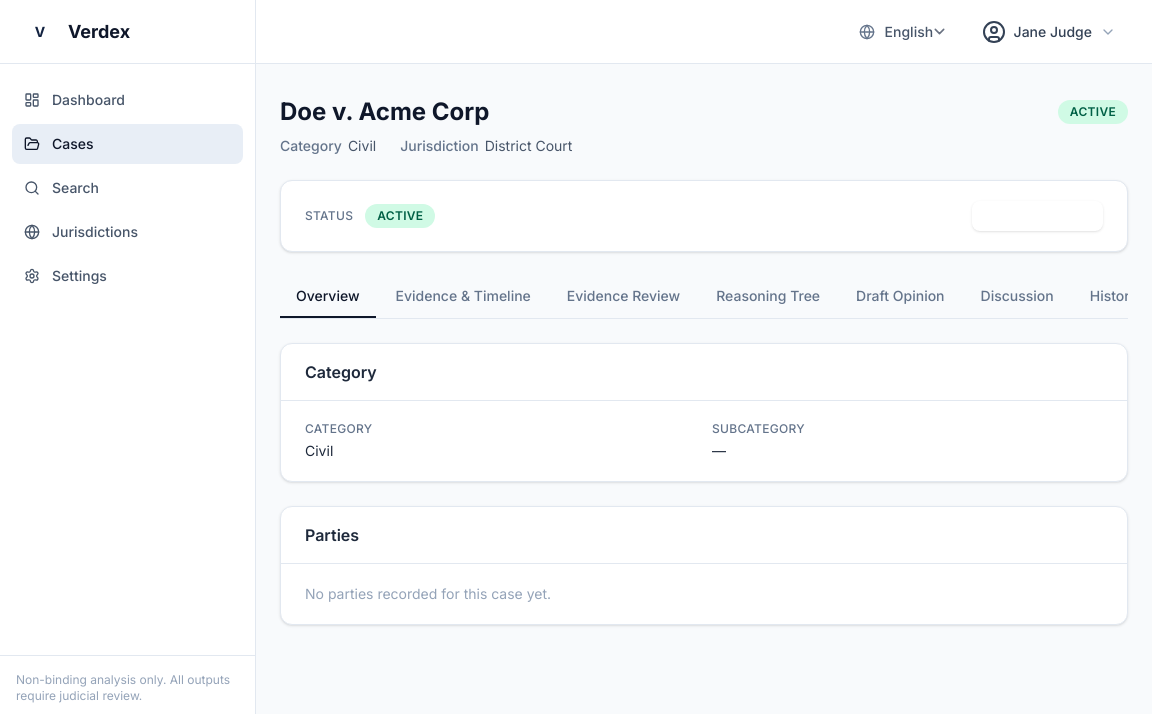
CaseWorkspacePage › renders the evidence review tab with the case evidence segments
Click the tab "Evidence Review" at (624, 297), box [551, 276, 696, 318]
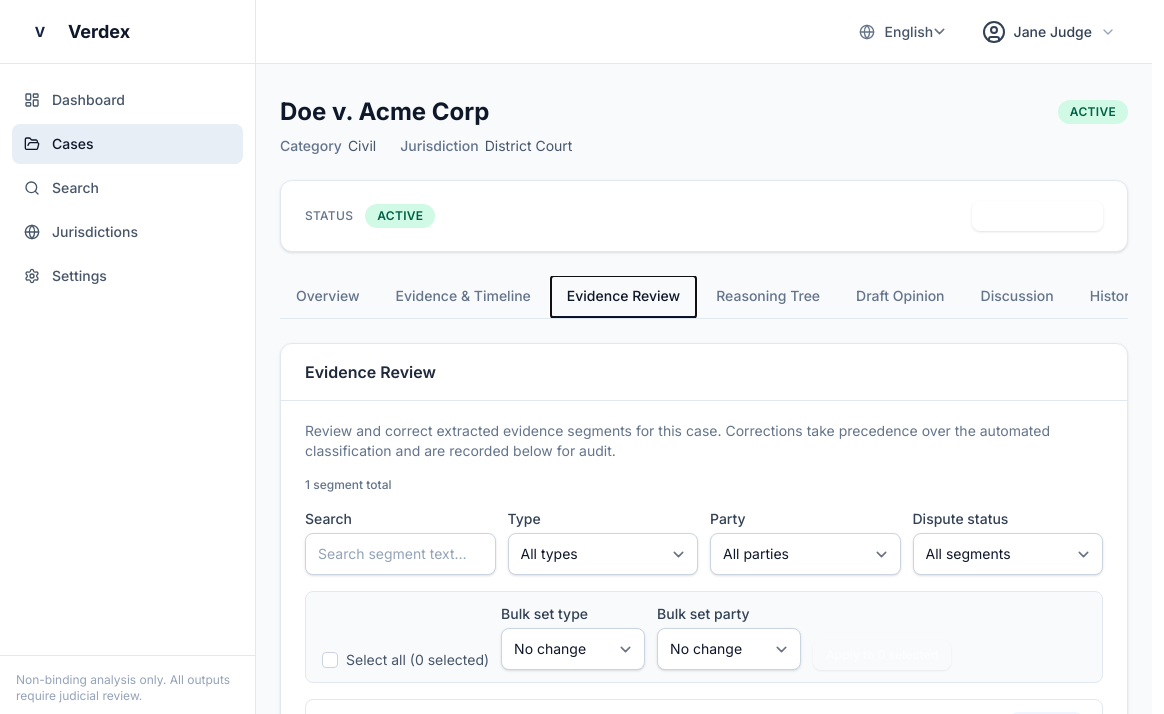
Check: the text "Review and correct extracted evidence segments" is shown, box [305, 422, 1050, 459]
